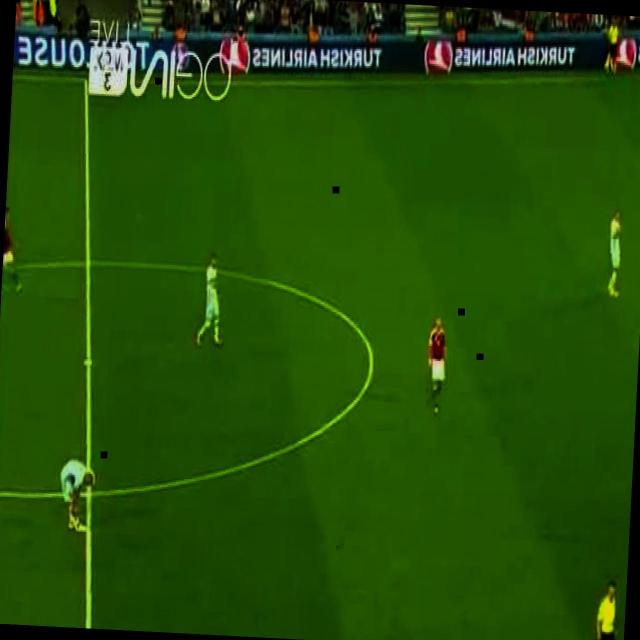player-white: (195, 255, 227, 348), (57, 458, 95, 534), (425, 316, 448, 412), (1, 205, 25, 293), (595, 578, 623, 640), (606, 211, 623, 296), (606, 16, 618, 76)
